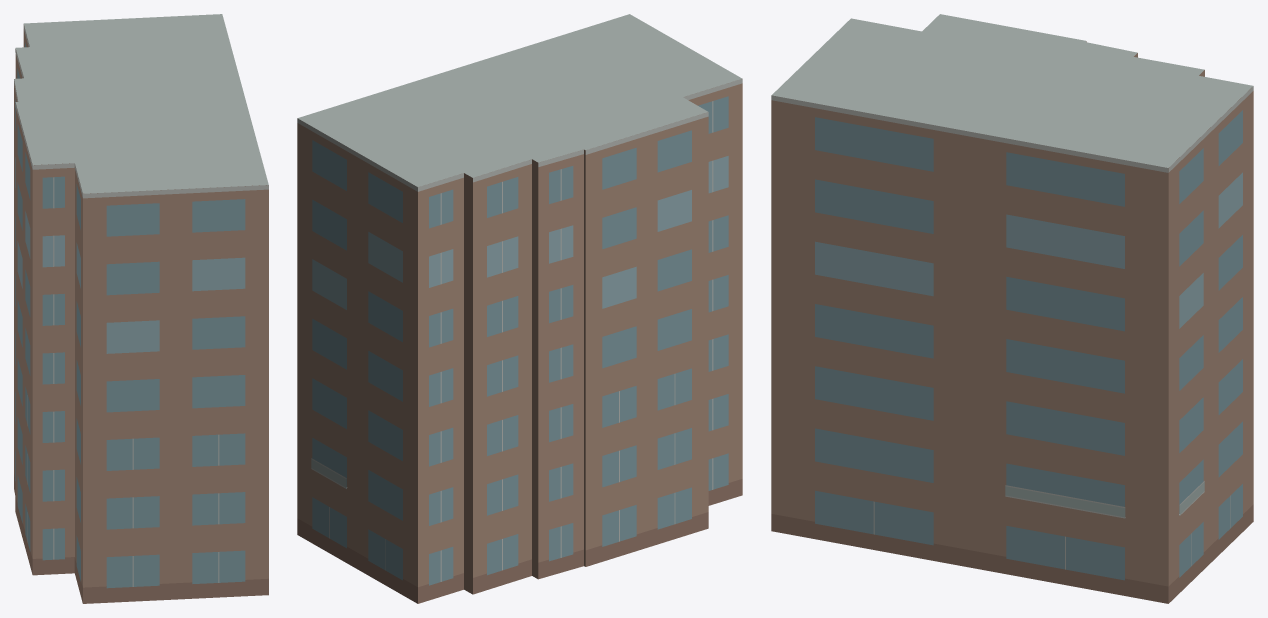
The model's file is survey-upis-32571440.glb.
3 views of the same model, side by side, from view 1: azimuth 30°, elevation 25°; view 2: azimuth 150°, elevation 25°; view 3: azimuth 270°, elevation 25° (orthographic). The views are drawn at different scales.
Visible parts, largest first — view 1: survey-upis-32571440.tmp; view 2: survey-upis-32571440.tmp; view 3: survey-upis-32571440.tmp.
Part boxes in pixels (x1,y1,x2,y2): survey-upis-32571440.tmp: (14, 14, 268, 603); survey-upis-32571440.tmp: (297, 14, 742, 603); survey-upis-32571440.tmp: (771, 14, 1253, 603).
Size of the model in its own units: 16.54 by 21.8 by 21.86.
